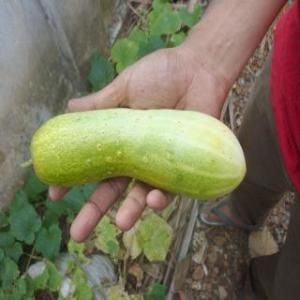cucumber: (30, 109, 248, 197)
